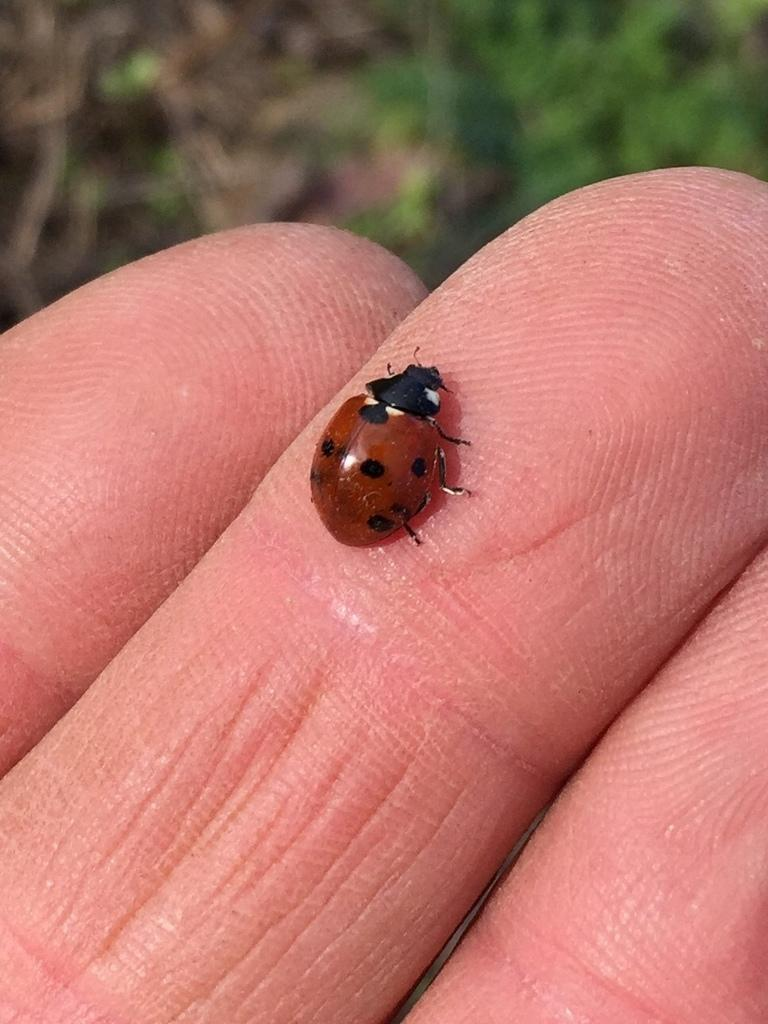ladybug: (306, 341, 486, 559)
